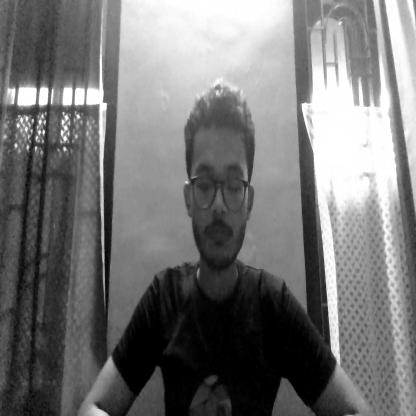Normal: (182, 89, 255, 274)
